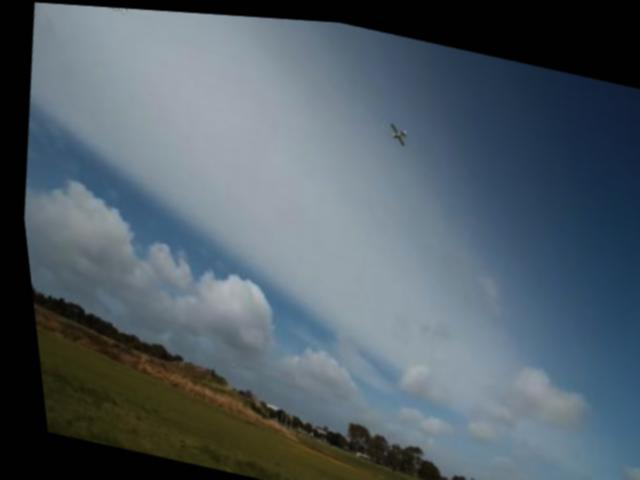uav: (380, 111, 412, 147)
